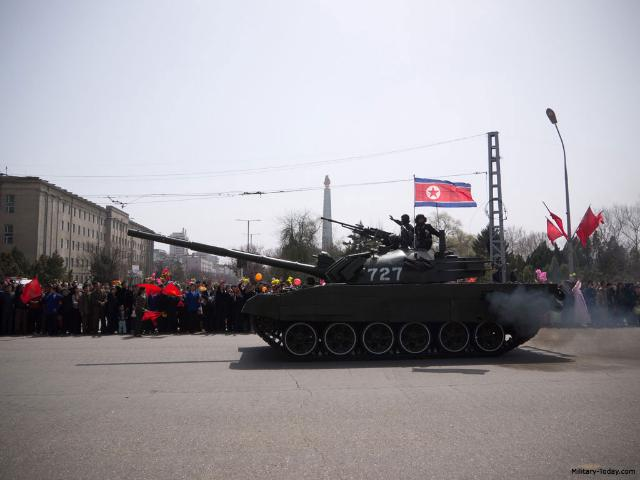other: (414, 214, 434, 250), (92, 282, 106, 332), (78, 284, 92, 332), (134, 287, 148, 335), (185, 284, 199, 330), (396, 214, 412, 242), (72, 286, 80, 310)
tank: (247, 252, 551, 362)
